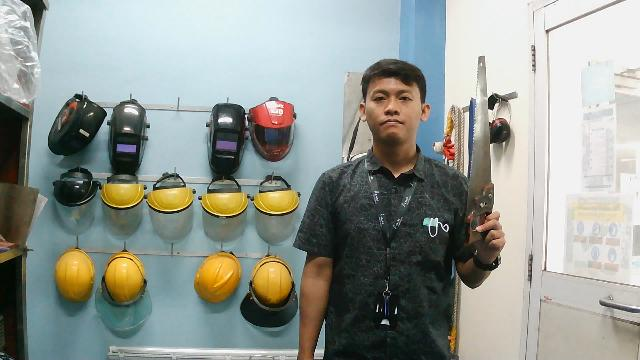gergaji_kayu: (465, 49, 499, 253)
